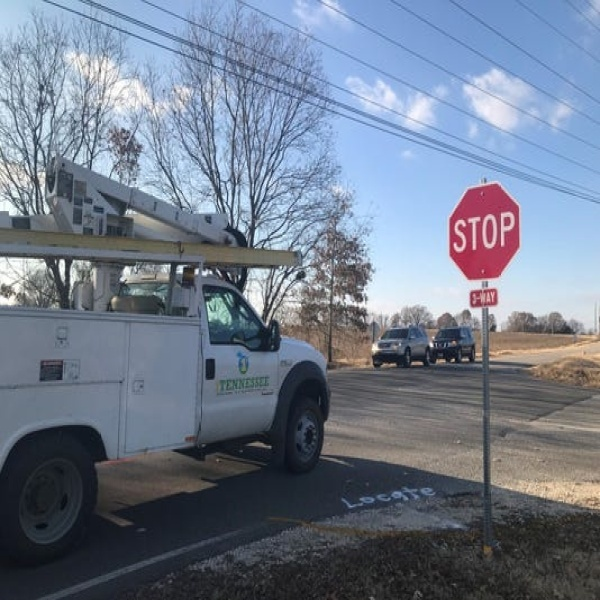stop: (450, 177, 522, 279)
